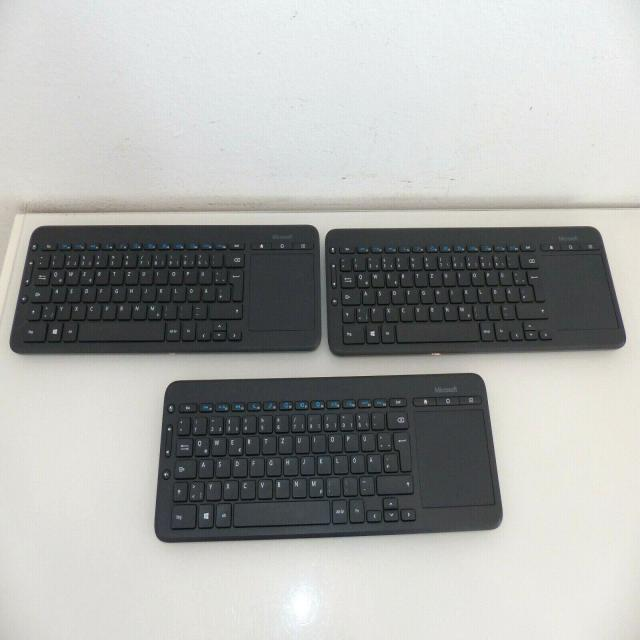0: (340, 412, 354, 431), (479, 253, 492, 269), (182, 251, 194, 266)
1: (192, 417, 207, 435), (50, 250, 63, 266), (353, 255, 365, 270)
2: (207, 414, 222, 432), (64, 250, 78, 266), (367, 255, 380, 270)
3: (226, 415, 240, 434), (382, 254, 394, 269), (80, 252, 92, 267)
4: (242, 414, 256, 433), (395, 254, 408, 269), (95, 252, 107, 267)
5: (259, 414, 273, 432), (410, 254, 423, 269), (109, 251, 121, 266)
6: (275, 413, 289, 432), (424, 254, 437, 269), (124, 252, 136, 267)
7: (291, 413, 305, 432), (437, 253, 450, 269), (138, 252, 151, 267)
8: (308, 413, 322, 431), (451, 253, 464, 269), (153, 251, 165, 266)
9: (323, 412, 337, 431), (466, 253, 478, 269), (168, 252, 180, 267)
a: (197, 456, 212, 477), (52, 285, 65, 301), (362, 288, 375, 304)
accent: (371, 412, 384, 430), (506, 252, 518, 268), (211, 252, 223, 267)
ae: (365, 452, 380, 471), (505, 285, 519, 301), (201, 284, 214, 300)
alt-left: (215, 501, 231, 526), (380, 323, 395, 344), (62, 322, 77, 341)
altgr-right: (331, 497, 347, 523), (479, 319, 494, 340), (165, 319, 179, 340)
b: (274, 477, 289, 497), (116, 303, 131, 319), (430, 305, 443, 321)
c: (239, 477, 254, 498), (85, 302, 100, 318), (400, 306, 413, 322)
caret: (177, 416, 190, 434), (37, 251, 50, 267), (339, 256, 351, 271)
comma: (326, 477, 340, 497), (163, 303, 177, 319), (473, 304, 486, 320)
d: (232, 457, 247, 476), (391, 288, 404, 304), (82, 285, 95, 301)
del: (385, 409, 408, 428), (520, 252, 539, 267), (225, 253, 244, 267)
e: (227, 435, 242, 454), (79, 267, 92, 284), (385, 270, 398, 286)
enter: (392, 430, 411, 471), (526, 267, 546, 300), (228, 267, 243, 300)
f: (249, 457, 264, 476), (97, 286, 111, 302), (406, 287, 418, 303)
g: (266, 456, 280, 475), (111, 285, 125, 301), (420, 287, 432, 303)
h: (282, 455, 296, 474), (434, 287, 447, 303), (126, 285, 139, 301)
hash: (382, 451, 397, 470), (519, 284, 533, 300), (217, 284, 230, 301)
i: (311, 434, 326, 453), (154, 267, 167, 283), (457, 269, 470, 284)
j: (299, 454, 313, 474), (141, 284, 154, 300), (448, 286, 461, 302)
k: (317, 454, 332, 473), (157, 285, 170, 301), (463, 287, 476, 303)
keyboard: (151, 369, 508, 550), (6, 220, 324, 361), (324, 220, 630, 362)
l: (332, 453, 347, 472), (477, 286, 490, 302), (171, 285, 184, 301)
less: (190, 480, 205, 500), (40, 302, 54, 319), (355, 305, 368, 321)
m: (308, 476, 322, 495), (148, 302, 161, 319), (459, 305, 472, 321)
minus: (358, 473, 373, 494), (500, 301, 514, 318), (194, 303, 208, 319)
n: (291, 476, 306, 497), (132, 303, 146, 319), (444, 305, 457, 321)
o: (328, 432, 343, 453), (470, 269, 484, 284), (168, 267, 181, 283)
oe: (349, 452, 363, 472), (187, 284, 200, 301), (492, 285, 505, 301)
p: (344, 432, 358, 452), (182, 267, 196, 283), (484, 269, 498, 284)
plus: (377, 432, 391, 451), (212, 266, 226, 283), (512, 268, 525, 283)
point: (343, 475, 358, 495), (178, 303, 192, 319), (487, 303, 500, 318)
q: (194, 436, 209, 455), (50, 268, 64, 284), (357, 271, 369, 287)
r: (244, 436, 259, 455), (94, 268, 108, 284), (400, 270, 413, 286)
s: (214, 457, 229, 476), (67, 284, 80, 301), (376, 288, 389, 304)
shift-left: (172, 479, 188, 501), (25, 303, 39, 320), (342, 306, 354, 322)
shift-lock: (173, 457, 195, 477), (30, 285, 51, 301), (342, 289, 361, 305)
shift-right: (375, 472, 413, 493), (208, 301, 242, 320), (515, 301, 548, 318)
space: (232, 498, 329, 525), (78, 321, 164, 340), (396, 323, 478, 341)
ss: (355, 412, 369, 430), (196, 252, 209, 267), (493, 253, 505, 269)
strg-left: (168, 502, 195, 528), (342, 323, 365, 344), (23, 321, 47, 340)
t: (261, 435, 276, 454), (414, 270, 427, 287), (110, 268, 123, 284)
tab: (174, 435, 193, 456), (33, 269, 49, 284), (340, 272, 355, 287)
u: (295, 434, 310, 453), (138, 267, 152, 283), (443, 269, 456, 286)
ue: (361, 432, 376, 451), (198, 266, 212, 283), (500, 268, 513, 284)
v: (256, 477, 272, 498), (101, 303, 116, 319), (415, 305, 428, 321)
w: (212, 437, 227, 456), (64, 268, 78, 283), (371, 270, 383, 286)
x: (224, 479, 239, 499), (70, 301, 84, 318), (385, 306, 398, 322)
y: (205, 478, 220, 499), (56, 303, 70, 320), (370, 306, 383, 322)
z: (278, 434, 293, 453), (124, 267, 138, 284), (428, 270, 441, 286)
